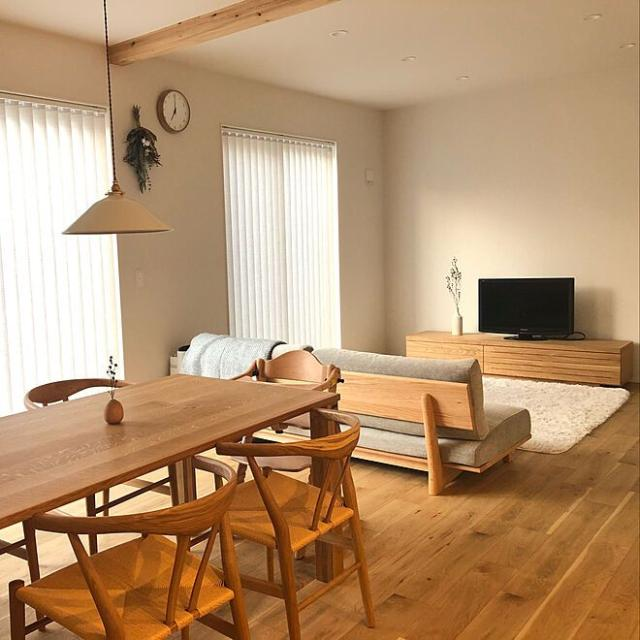natural chair: (20, 451, 252, 630), (218, 407, 382, 637)
natural desk: (0, 367, 342, 552)
natural shelf: (404, 327, 634, 387)
